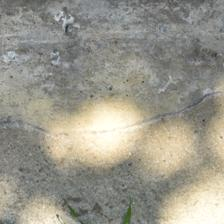Crack: (3, 44, 218, 102)
